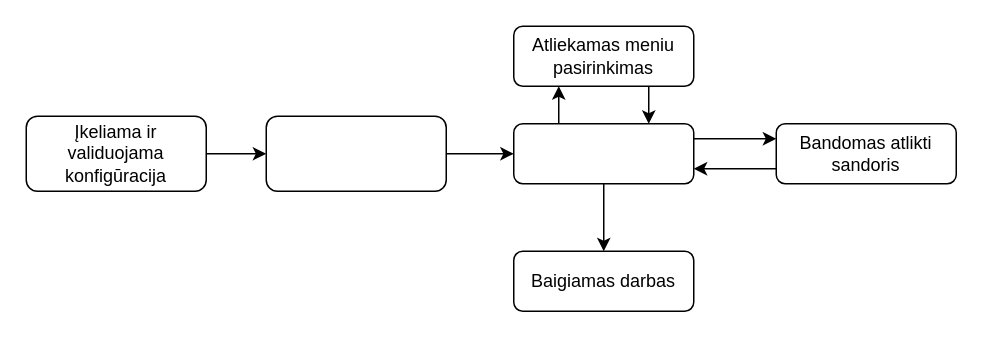
Some shapes in this 983 by 338 pixel diagram are drawn without their labels. Each missing label, with the centre of its shape:
Inicijuojami API prieigos ir klasės kintamieji: (355,153)
Meniu: (603,153)
